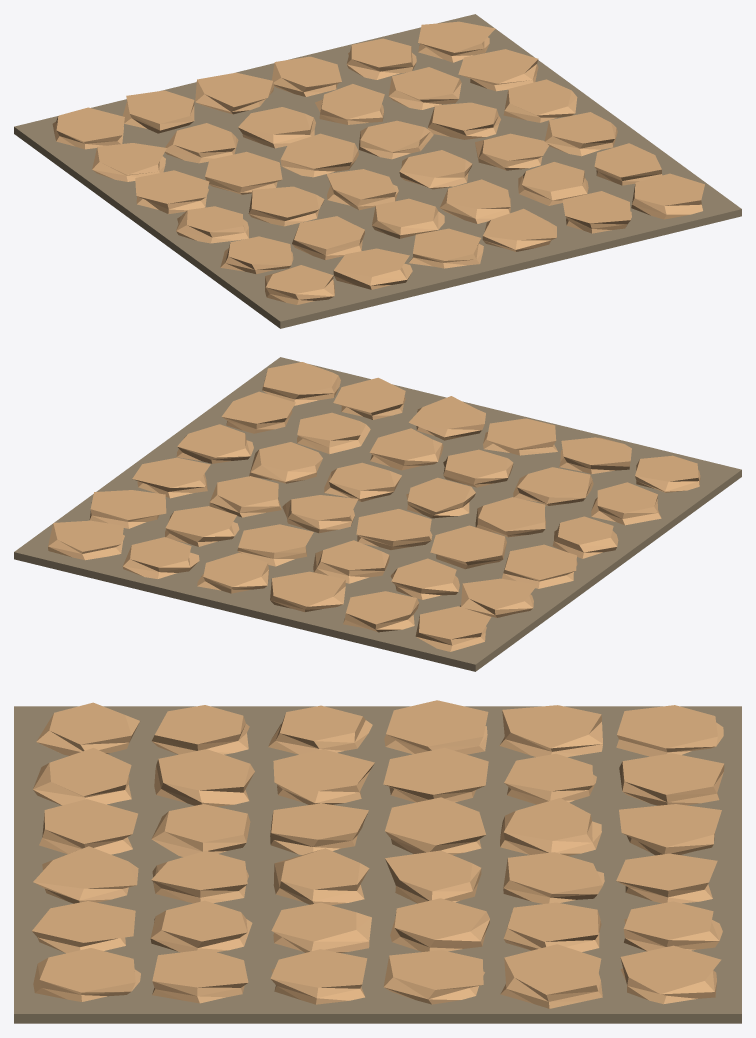
Rendered from desert-canyons-and-oases-cracked-mud-86b0cf50__20936.glb.
The picture shows the model from 3 angles, top to bottom: view 1: azimuth 30°, elevation 25°; view 2: azimuth 150°, elevation 25°; view 3: azimuth 270°, elevation 25°; orthographic projection. The views are drawn at different scales.
Visible parts, largest first — view 1: cracked-mud; view 2: cracked-mud; view 3: cracked-mud.
Part boxes in pixels (bbox=[...]): cracked-mud: bbox=[14, 14, 741, 328]; cracked-mud: bbox=[14, 357, 741, 671]; cracked-mud: bbox=[14, 700, 741, 1023].
Size of the model in its own units: 4 by 0.14 by 4.
